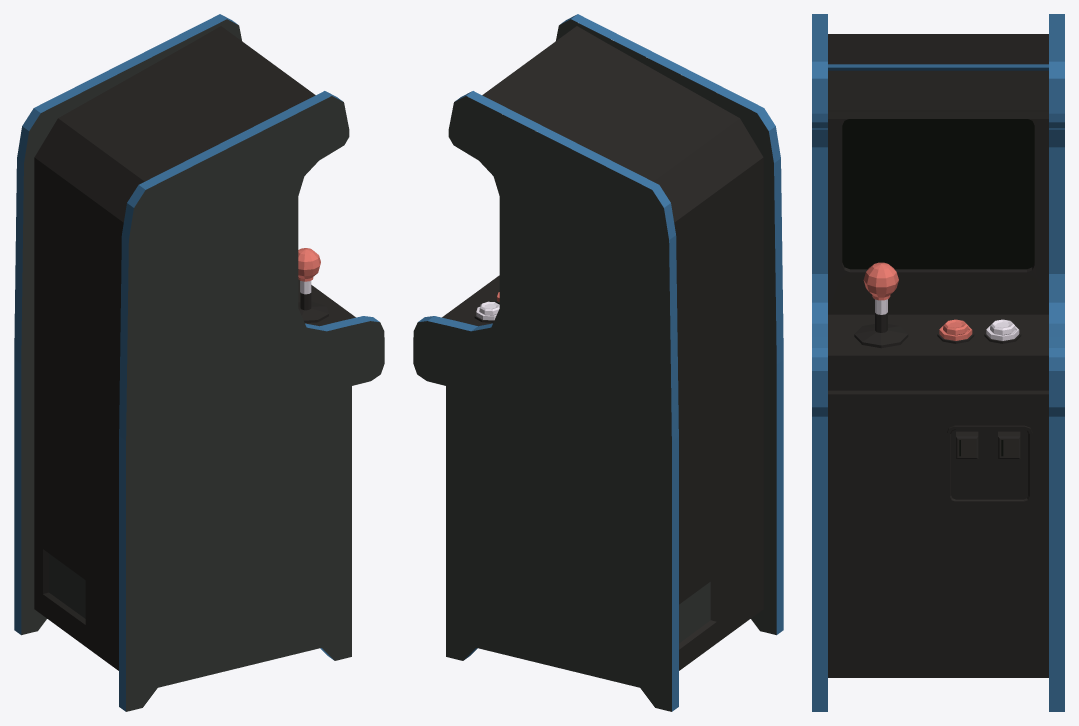
Rendered from arcade.glb.
3 renders of one model, left to right at view 1: azimuth 30°, elevation 25°; view 2: azimuth 150°, elevation 25°; view 3: azimuth 270°, elevation 25°, orthographic. The views are drawn at different scales.
Visible parts, largest first — view 1: ArcadeMachine_Cube.002; view 2: ArcadeMachine_Cube.002; view 3: ArcadeMachine_Cube.002, GameScreen_Plane.
Boxes of the visible parts, box(x1,y1,x2,y2) form: ArcadeMachine_Cube.002: box(14, 14, 384, 711); ArcadeMachine_Cube.002: box(413, 14, 783, 711); ArcadeMachine_Cube.002: box(812, 14, 1064, 711); GameScreen_Plane: box(842, 119, 1034, 269).
Size of the model in its own units: 1.24 by 2.59 by 0.927.
Materials: 4 (4 with a texture image).
